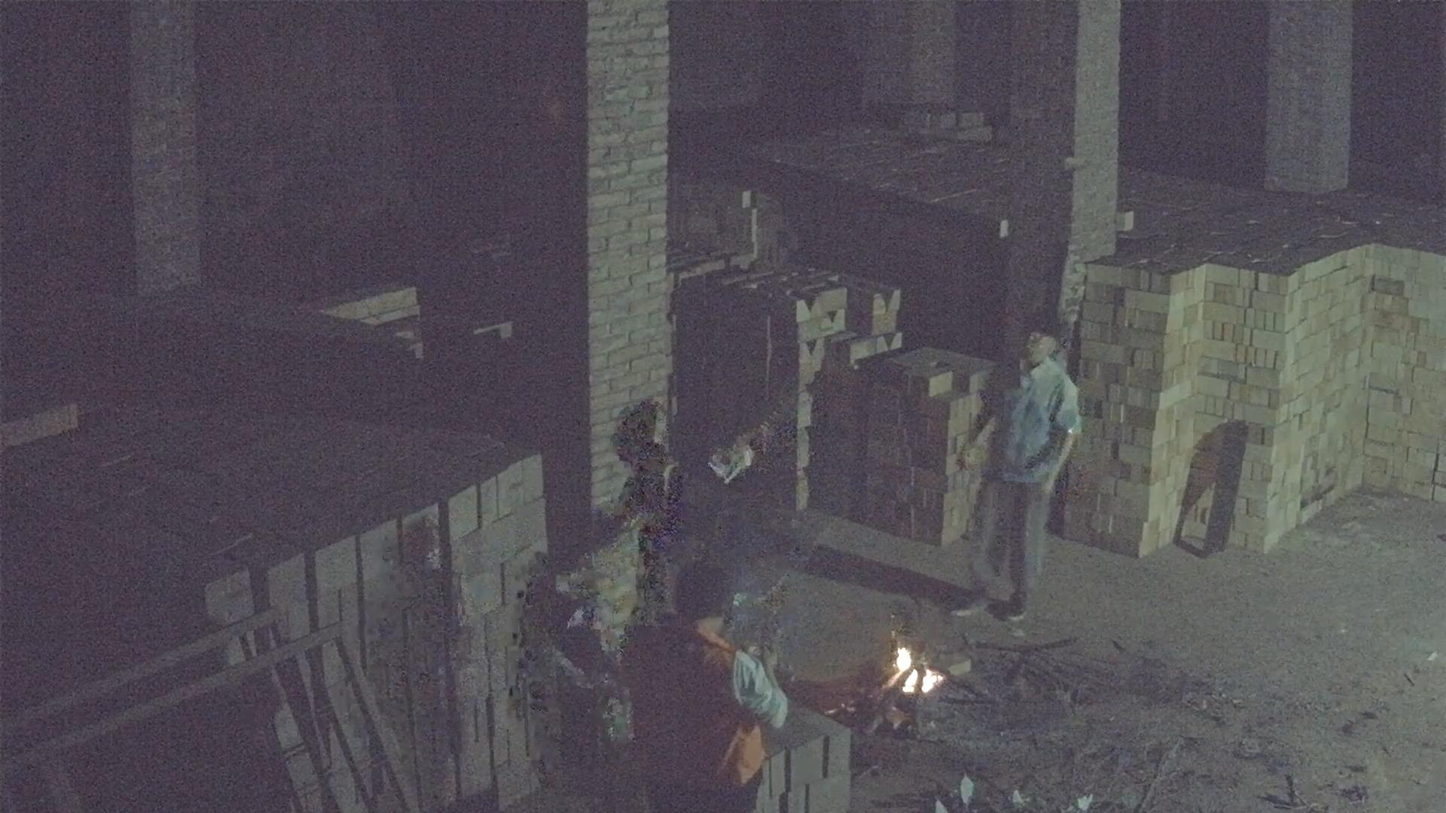fire: (889, 643, 945, 695)
